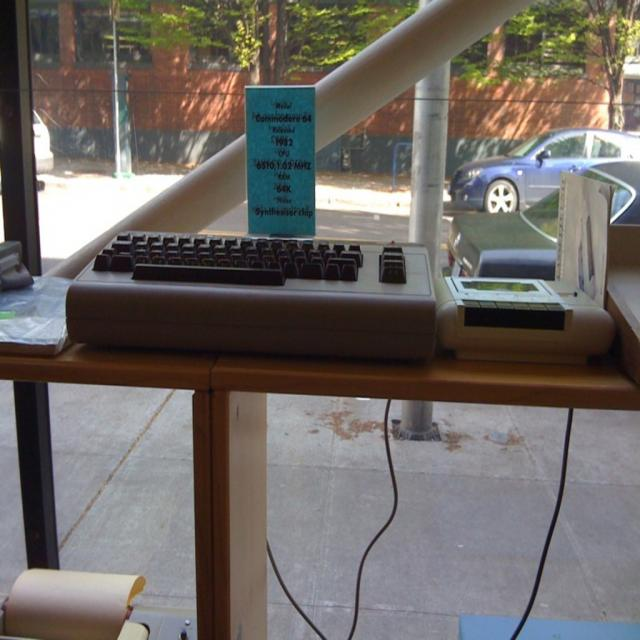desk: (1, 348, 636, 634)
keyboard: (72, 228, 440, 358)
